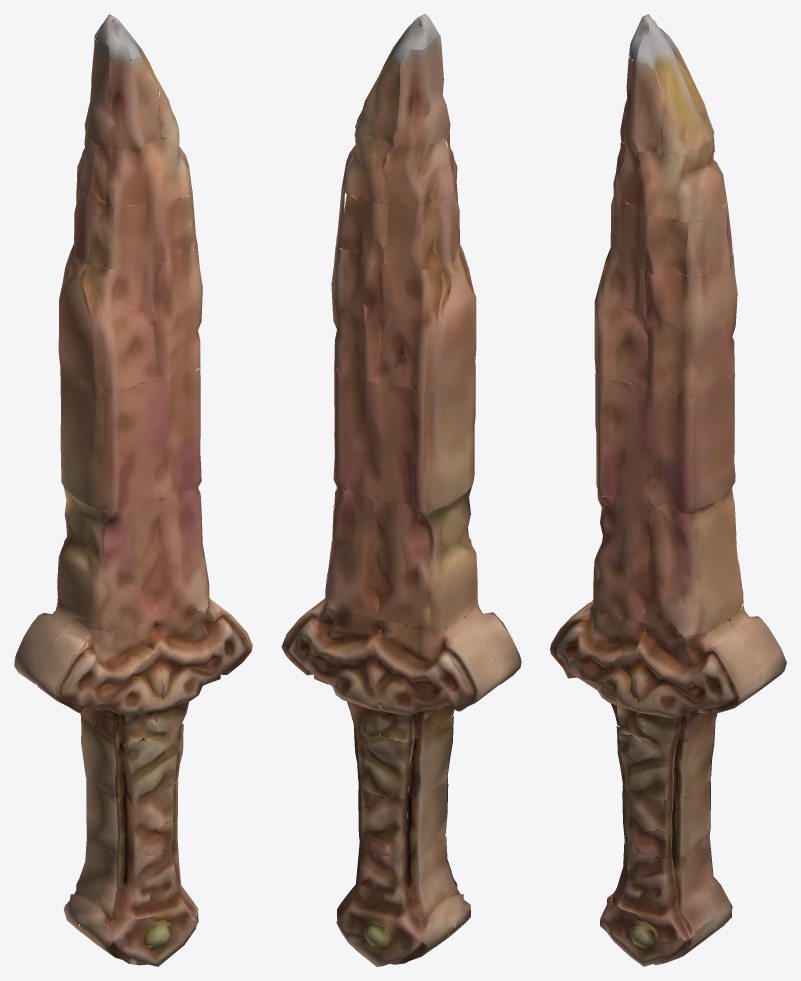
The model's file is dagger1.glb.
3 views of the same model, side by side, from view 1: azimuth 30°, elevation 25°; view 2: azimuth 150°, elevation 25°; view 3: azimuth 330°, elevation 25° (orthographic).
Visible parts, largest first — view 1: dagger1; view 2: dagger1; view 3: dagger1.
Boxes of the visible parts, x1,y1,x2,y2 form: dagger1: (14, 14, 252, 966); dagger1: (281, 14, 521, 966); dagger1: (550, 14, 786, 966).
Size of the model in its own units: 0.2165 by 0.9999 by 0.1194.
Materials: 1 (1 with a texture image).
